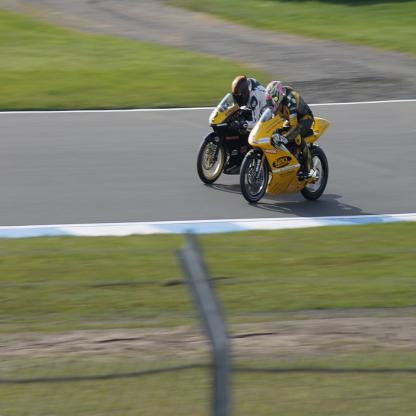Helmet: (264, 80, 284, 112), (229, 74, 246, 103)
